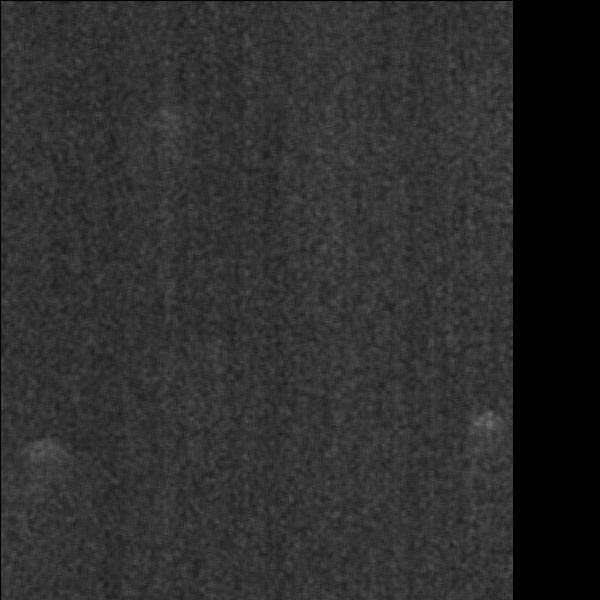spark: (460, 402, 502, 472), (1, 432, 56, 477)
